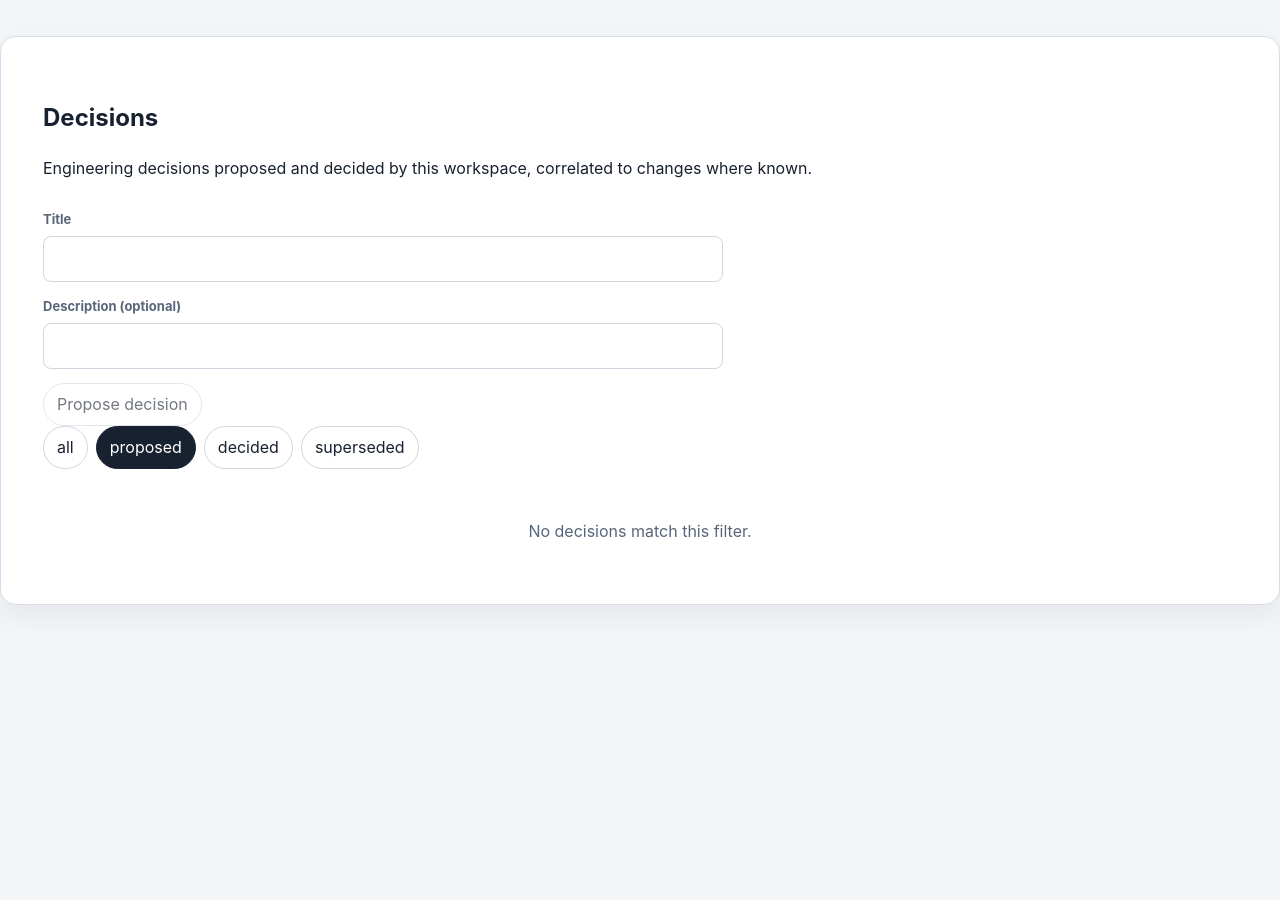
DecisionsPanel › surfaces a failed decision proposal as an alert
Expected: the text "No decisions match this filter." is shown, [528,521,752,541]
Type "Adopt trunk-based development" into the field named "Decision title".
click(383, 259); type("Adopt trunk-based development")  # box [43,236,723,282]
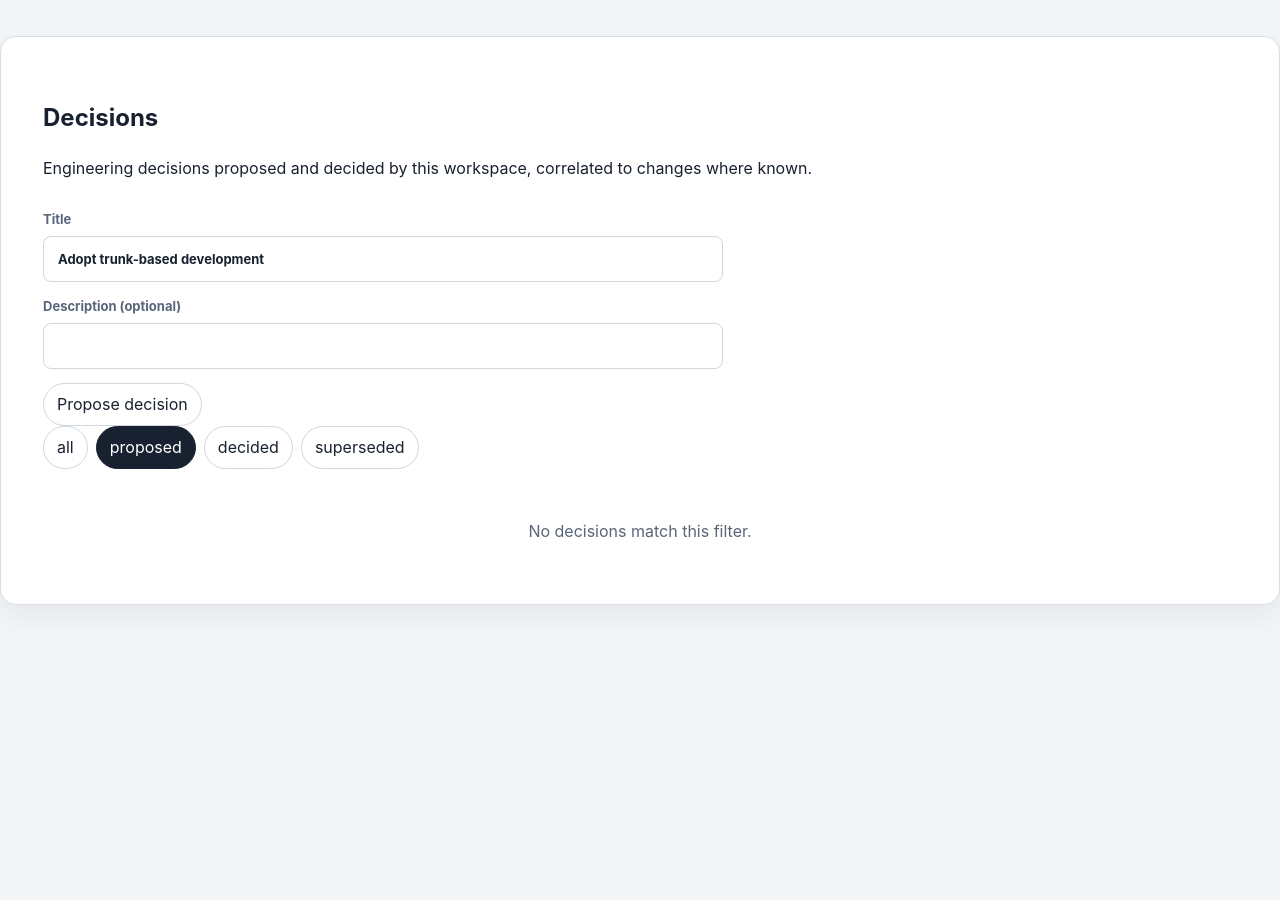
Click the button "Propose decision".
click(122, 405)  # box [43,383,202,426]
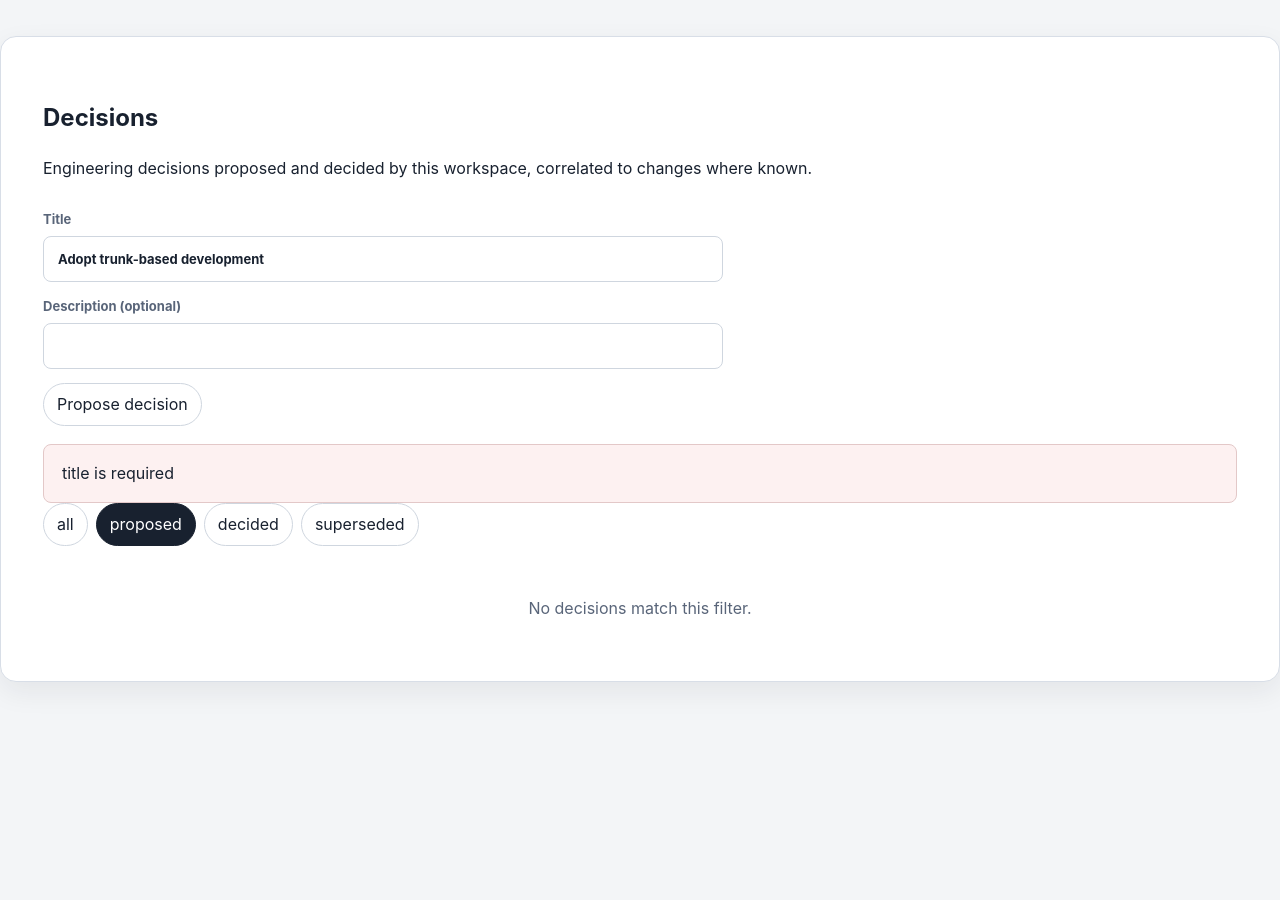
Expected: the message "title is required" is shown, [43,444,1237,503]
